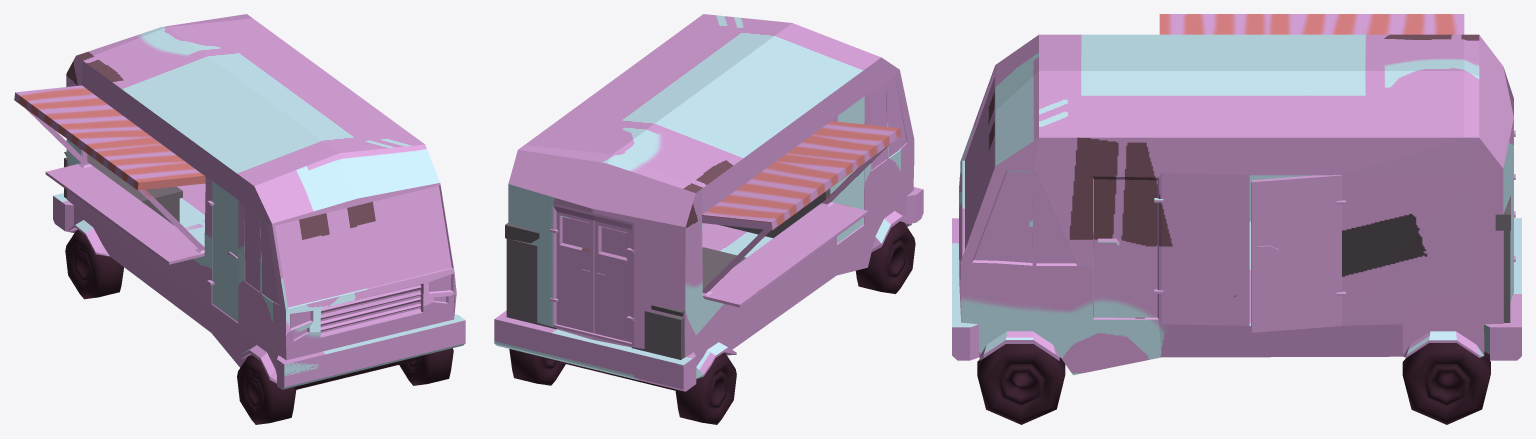
The model's file is ActualTruck.fbx.
The picture shows the model from 3 angles, left to right: view 1: azimuth 30°, elevation 25°; view 2: azimuth 150°, elevation 25°; view 3: azimuth 270°, elevation 25°; orthographic projection. The views are drawn at different scales.
Parts seen in each view (by area): view 1: Plane.001, Plane.005, Plane.004, Plane.003; view 2: Plane.001, Plane.005, Plane.004, Plane.003; view 3: Plane.001, Plane.002, Plane.004, Plane.005, Plane.003.
Boxes of the visible parts, bbox=[...] form: Plane.001: bbox=[53, 14, 465, 389]; Plane.005: bbox=[14, 85, 205, 264]; Plane.004: bbox=[65, 230, 453, 424]; Plane.003: bbox=[64, 151, 182, 225]; Plane.001: bbox=[494, 14, 923, 391]; Plane.005: bbox=[702, 121, 900, 307]; Plane.004: bbox=[509, 221, 915, 424]; Plane.003: bbox=[505, 188, 830, 359]; Plane.001: bbox=[952, 34, 1521, 375]; Plane.002: bbox=[1251, 175, 1341, 332]; Plane.004: bbox=[977, 343, 1490, 424]; Plane.005: bbox=[1159, 14, 1464, 34]; Plane.003: bbox=[1495, 195, 1510, 322].
Size of the model in its own units: 351 by 323 by 555.
